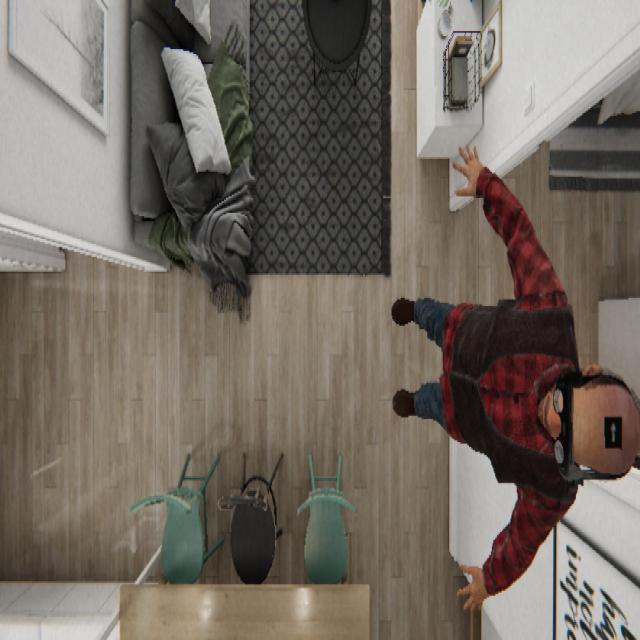Human: (391, 141, 638, 614)
UnityLogo: (603, 411, 623, 450)
